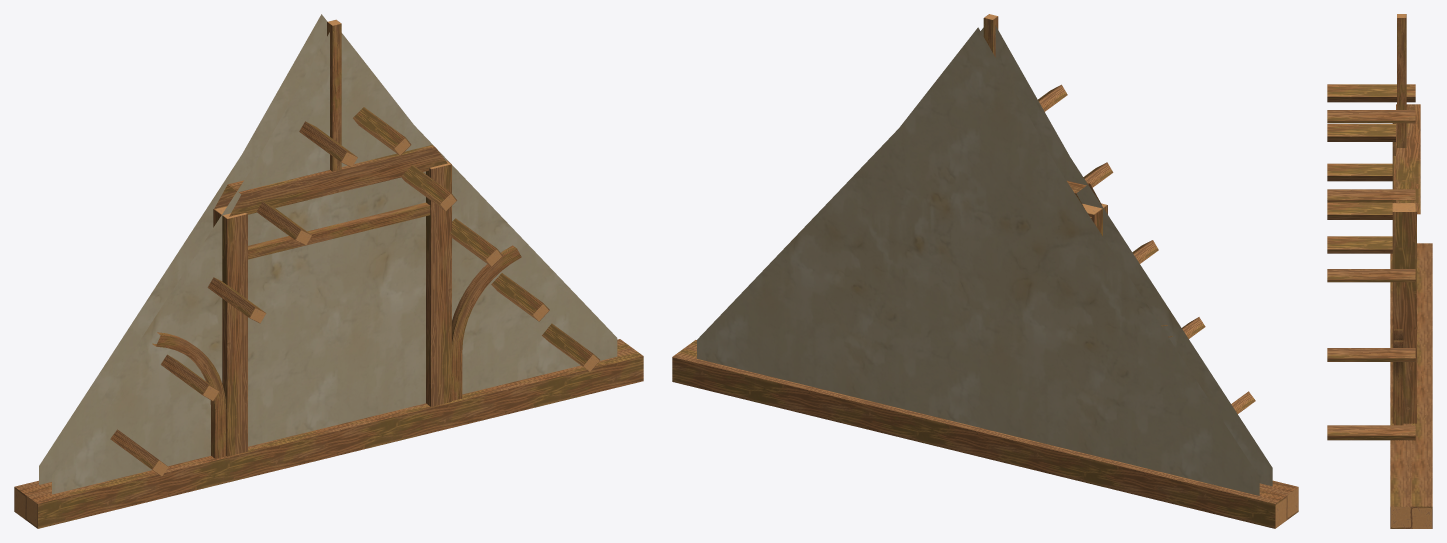
Rendered from Roof_Front_Brick6.gltf.
The picture shows the model from 3 angles, left to right: view 1: azimuth 30°, elevation 25°; view 2: azimuth 150°, elevation 25°; view 3: azimuth 270°, elevation 25°; orthographic projection. The views are drawn at different scales.
Parts seen in each view (by area): view 1: Roof_Front_Brick6; view 2: Roof_Front_Brick6; view 3: Roof_Front_Brick6.
Boxes of the visible parts, x1,y1,x2,y2 form: Roof_Front_Brick6: (14, 14, 643, 528); Roof_Front_Brick6: (672, 14, 1298, 528); Roof_Front_Brick6: (1327, 14, 1432, 528).
Bounding box in the file's own units: 6.69 × 4.52 × 1.13.
2 materials, 2 textured.
